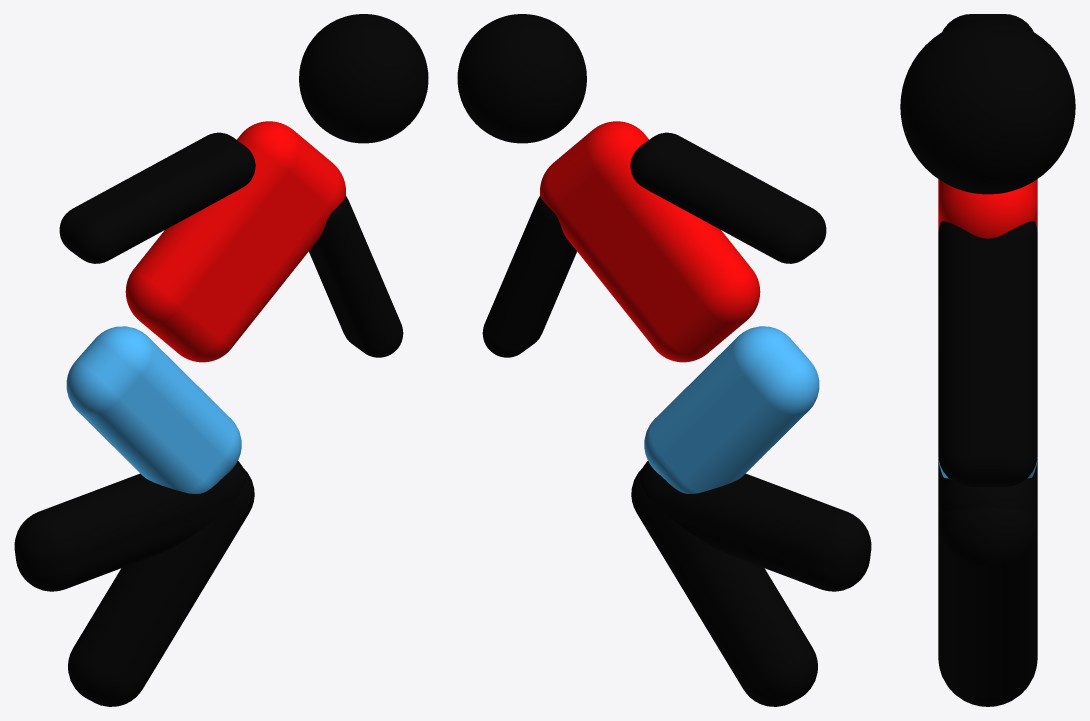
Rendered from running.gltf.
The picture shows the model from 3 angles, left to right: view 1: azimuth 30°, elevation 25°; view 2: azimuth 150°, elevation 25°; view 3: azimuth 270°, elevation 25°; orthographic projection. The views are drawn at different scales.
Parts seen in each view (by area): view 1: Box, Box 1, Box 5, Box 4, Sphere, Box 2, Box 3; view 2: Box, Box 1, Box 5, Box 4, Sphere, Box 2, Box 3; view 3: Box 3, Sphere, Box 5, Box, Box 4, Box 2.
Boxes of the visible parts, x1=… form: Box: x1=125, y1=121, x2=345, y2=362; Box 1: x1=66, y1=326, x2=241, y2=493; Box 5: x1=68, y1=468, x2=254, y2=706; Box 4: x1=14, y1=461, x2=245, y2=591; Sphere: x1=299, y1=14, x2=428, y2=143; Box 2: x1=59, y1=132, x2=255, y2=263; Box 3: x1=309, y1=196, x2=403, y2=357; Box: x1=540, y1=121, x2=760, y2=362; Box 1: x1=644, y1=326, x2=819, y2=493; Box 5: x1=631, y1=468, x2=817, y2=706; Box 4: x1=640, y1=461, x2=871, y2=591; Sphere: x1=457, y1=14, x2=586, y2=143; Box 2: x1=630, y1=132, x2=826, y2=263; Box 3: x1=482, y1=196, x2=576, y2=357; Box 3: x1=938, y1=221, x2=1037, y2=486; Sphere: x1=900, y1=19, x2=1075, y2=194; Box 5: x1=938, y1=507, x2=1037, y2=706; Box: x1=938, y1=179, x2=1037, y2=238; Box 4: x1=938, y1=459, x2=1037, y2=513; Box 2: x1=942, y1=14, x2=1033, y2=31.
Bounding box in the file's own units: 0.0942 × 0.1398 × 0.0264.
